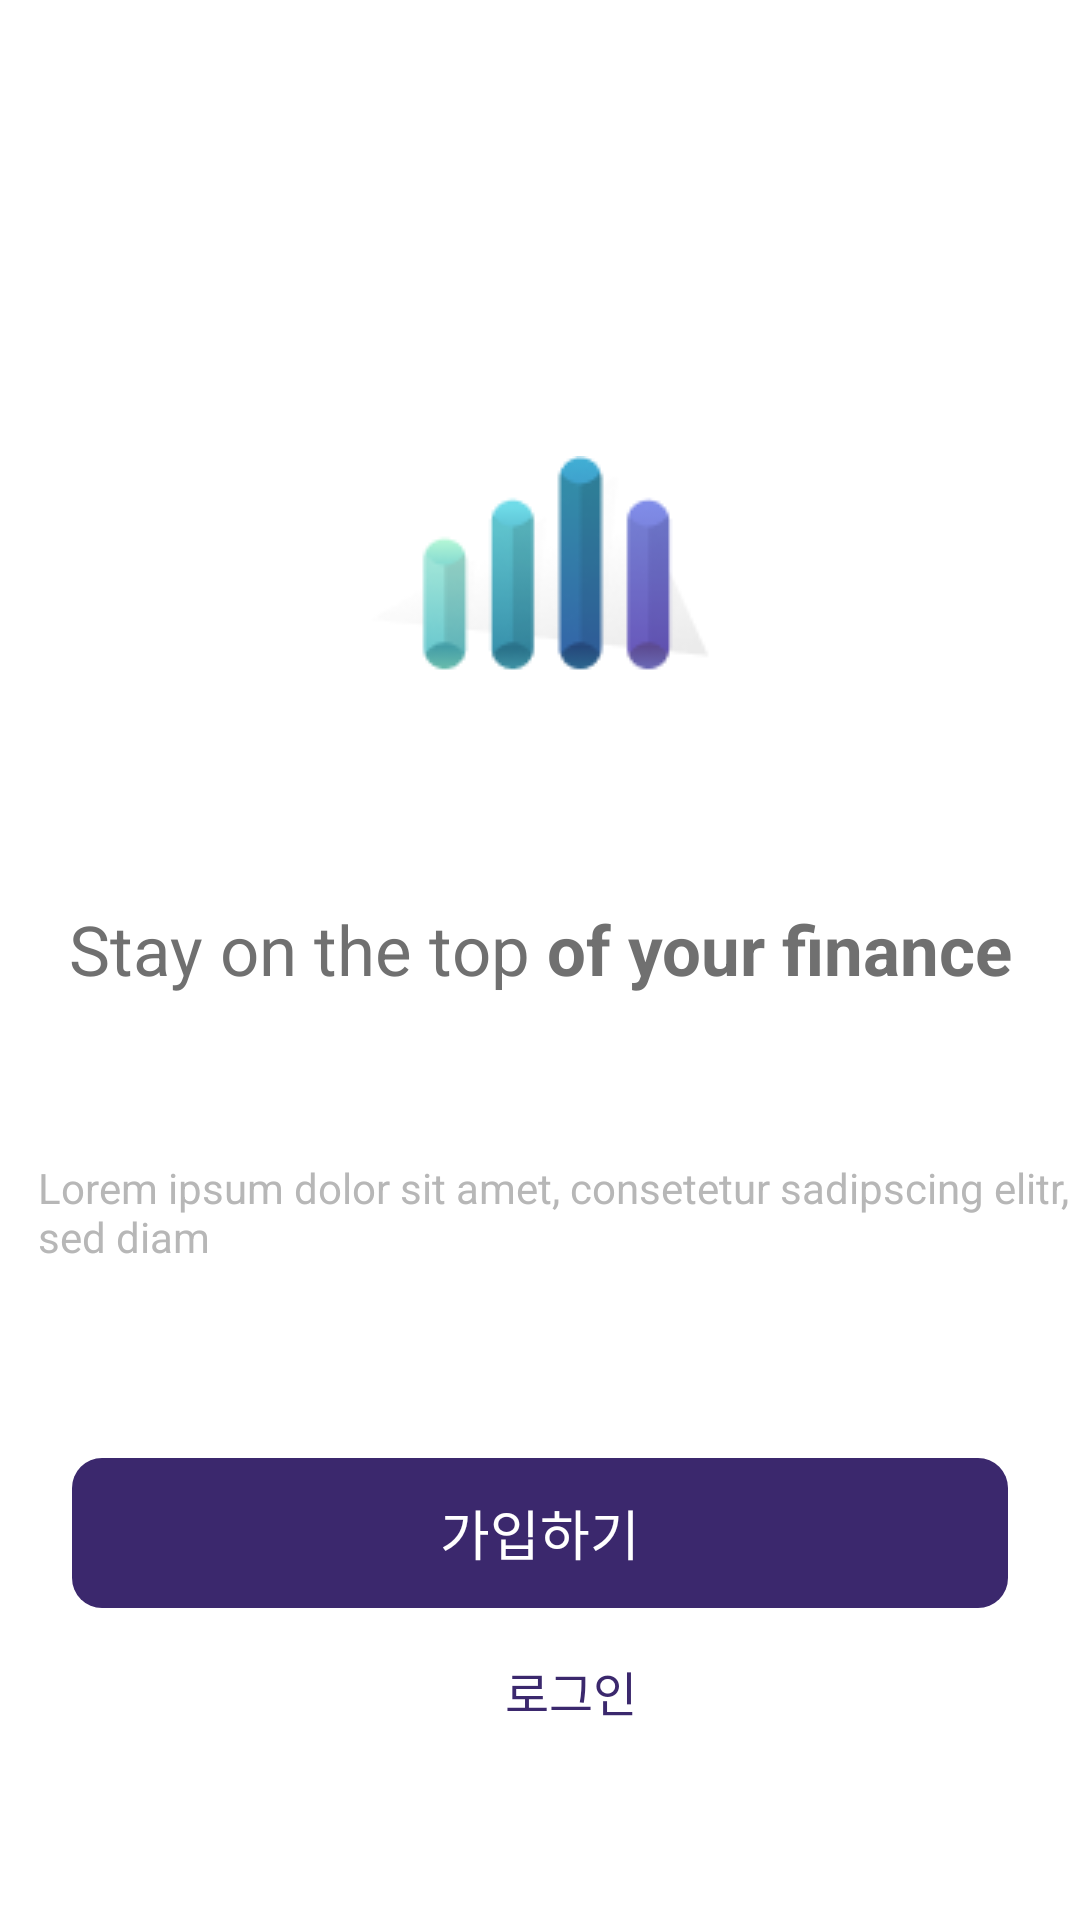

Named icons in this screenshot (1080*1920) and their centers, point (x, y):
bar chart: point (547, 563)
